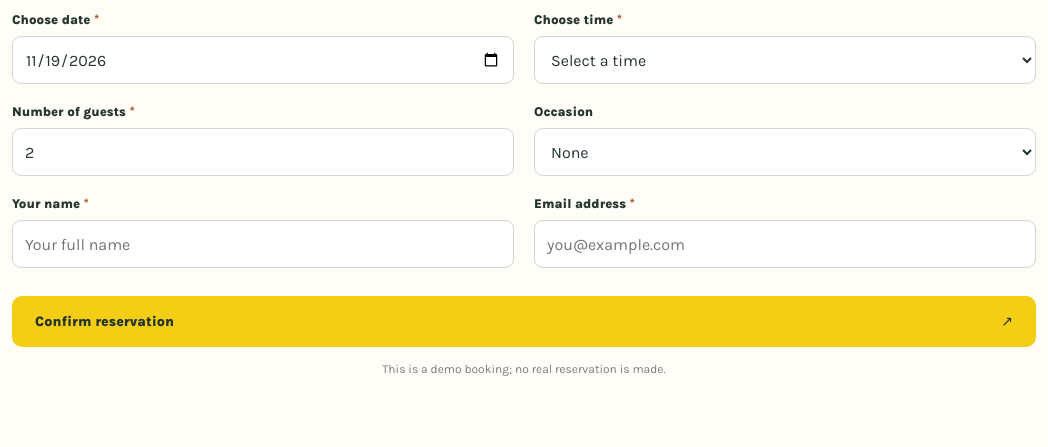
Test: BookingForm › shows inline errors on empty submission
This screenshot has width=1048, height=447.
Click the button "Confirm reservation ↗" at point(105, 322), box left=12, top=296, right=1036, bottom=347
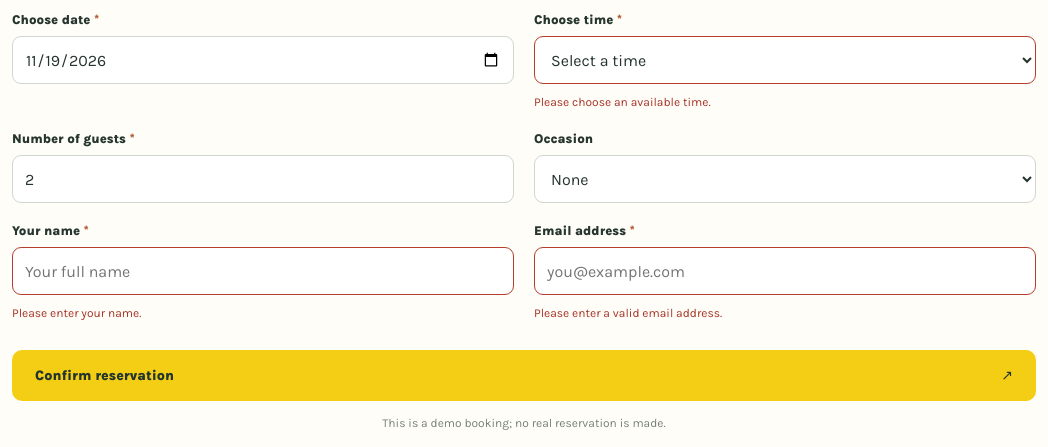
expect the text "Please choose an available time." is shown: met, box left=534, top=95, right=710, bottom=109
expect the text "Please enter your name." is shown: met, box left=12, top=306, right=141, bottom=320
